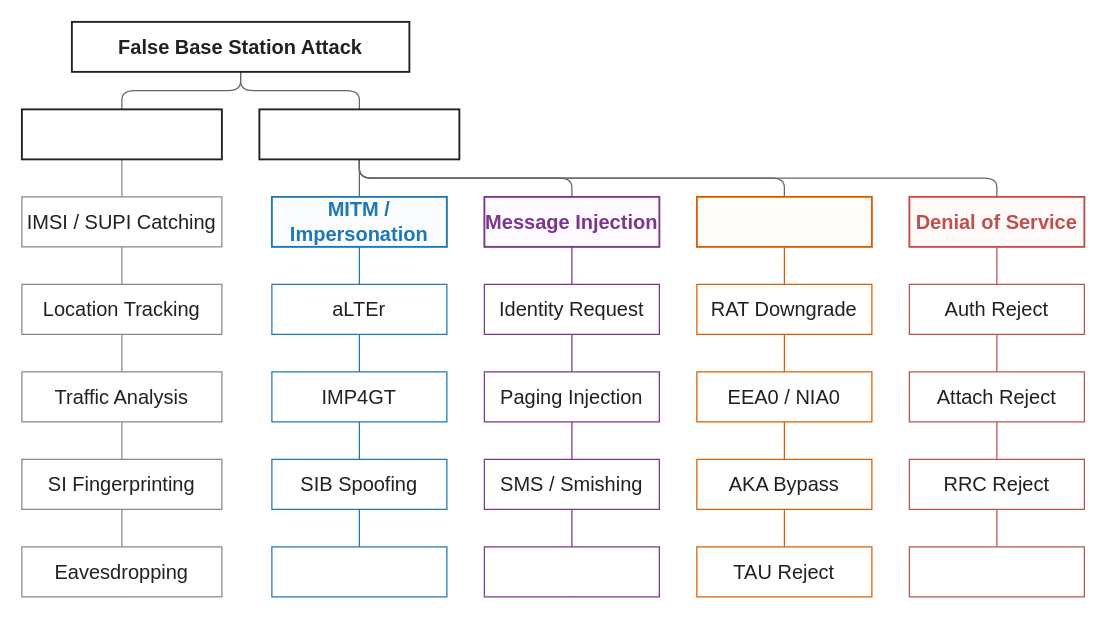
Some shapes in this 1108 by 621 pixel diagram are drawn without their labels. The centre of each missing label's shape, as x and y in pixels:
"Active Attack" goes at (359,134).
"AKA Relay" goes at (359,571).
"Downgrade" goes at (783,221).
"NAS / RRC Inject" goes at (571,571).
"Passive Attack" goes at (121,134).
"Smart Jamming" goes at (996,571).
